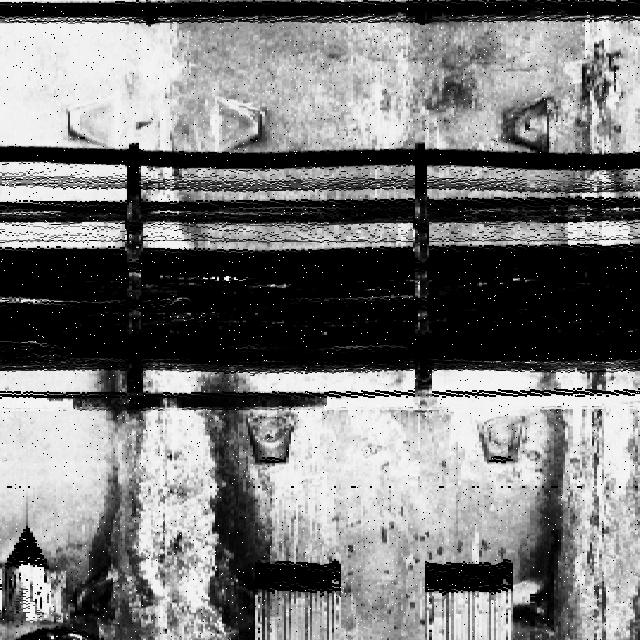leakage: (45, 364, 281, 640), (507, 375, 608, 640), (554, 22, 639, 248)
